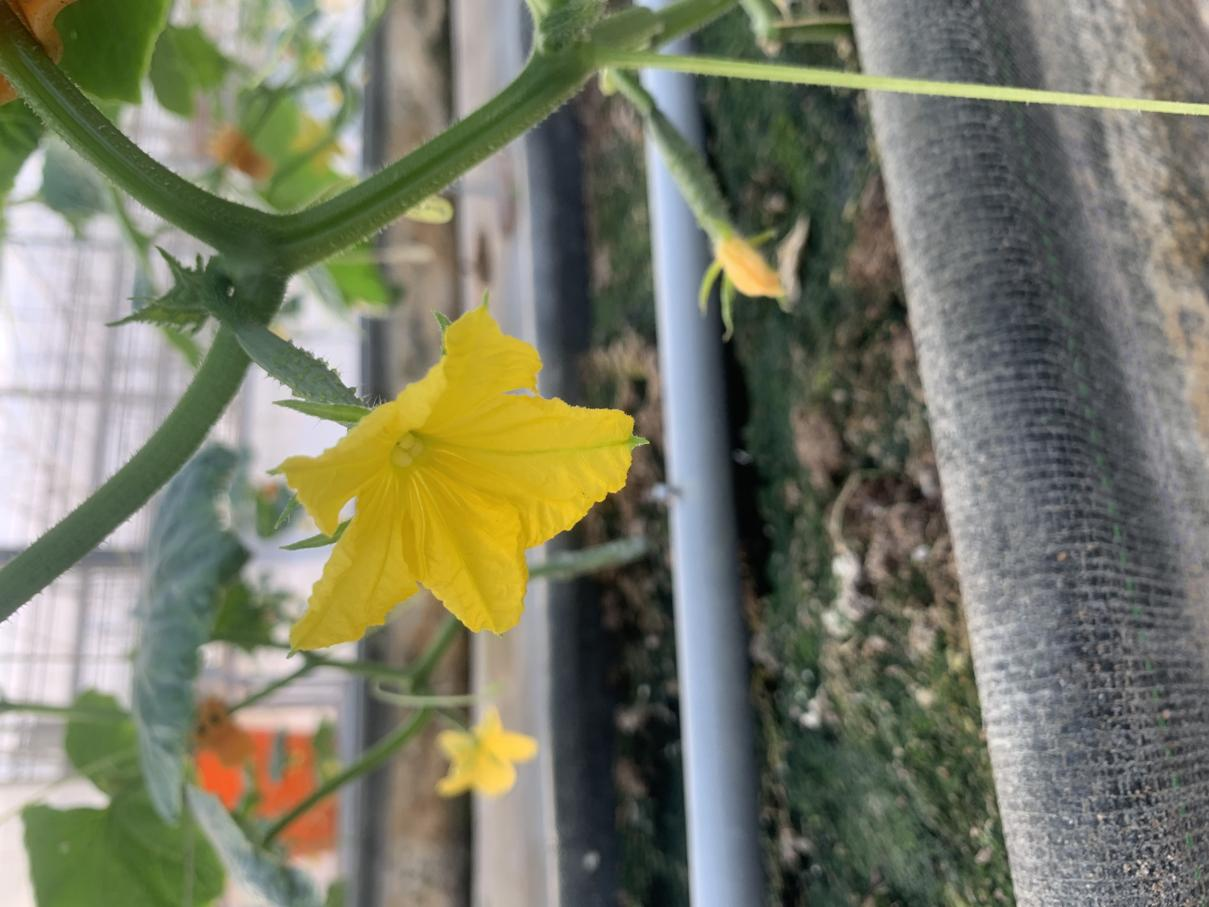flower: (267, 326, 651, 675)
